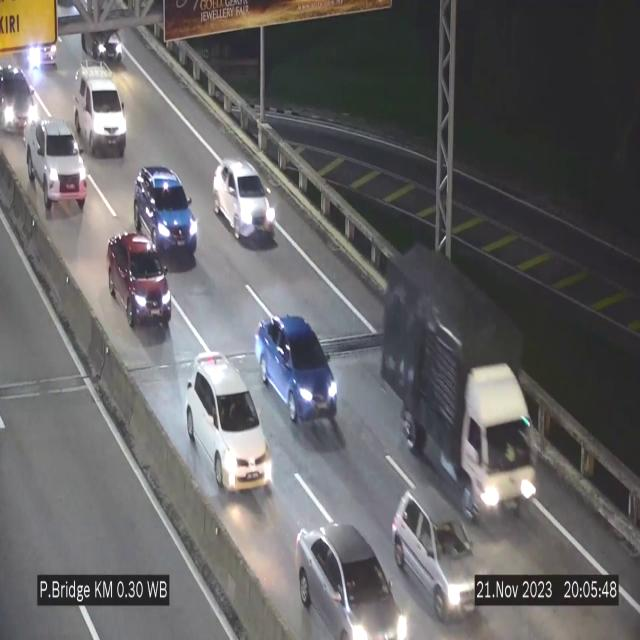Car: (290, 522, 404, 640), (187, 355, 272, 497), (389, 485, 481, 608), (255, 315, 337, 426), (22, 113, 89, 215), (107, 232, 171, 330), (134, 163, 198, 258), (213, 160, 275, 241), (75, 65, 127, 155)
Truck: (380, 243, 540, 517)
